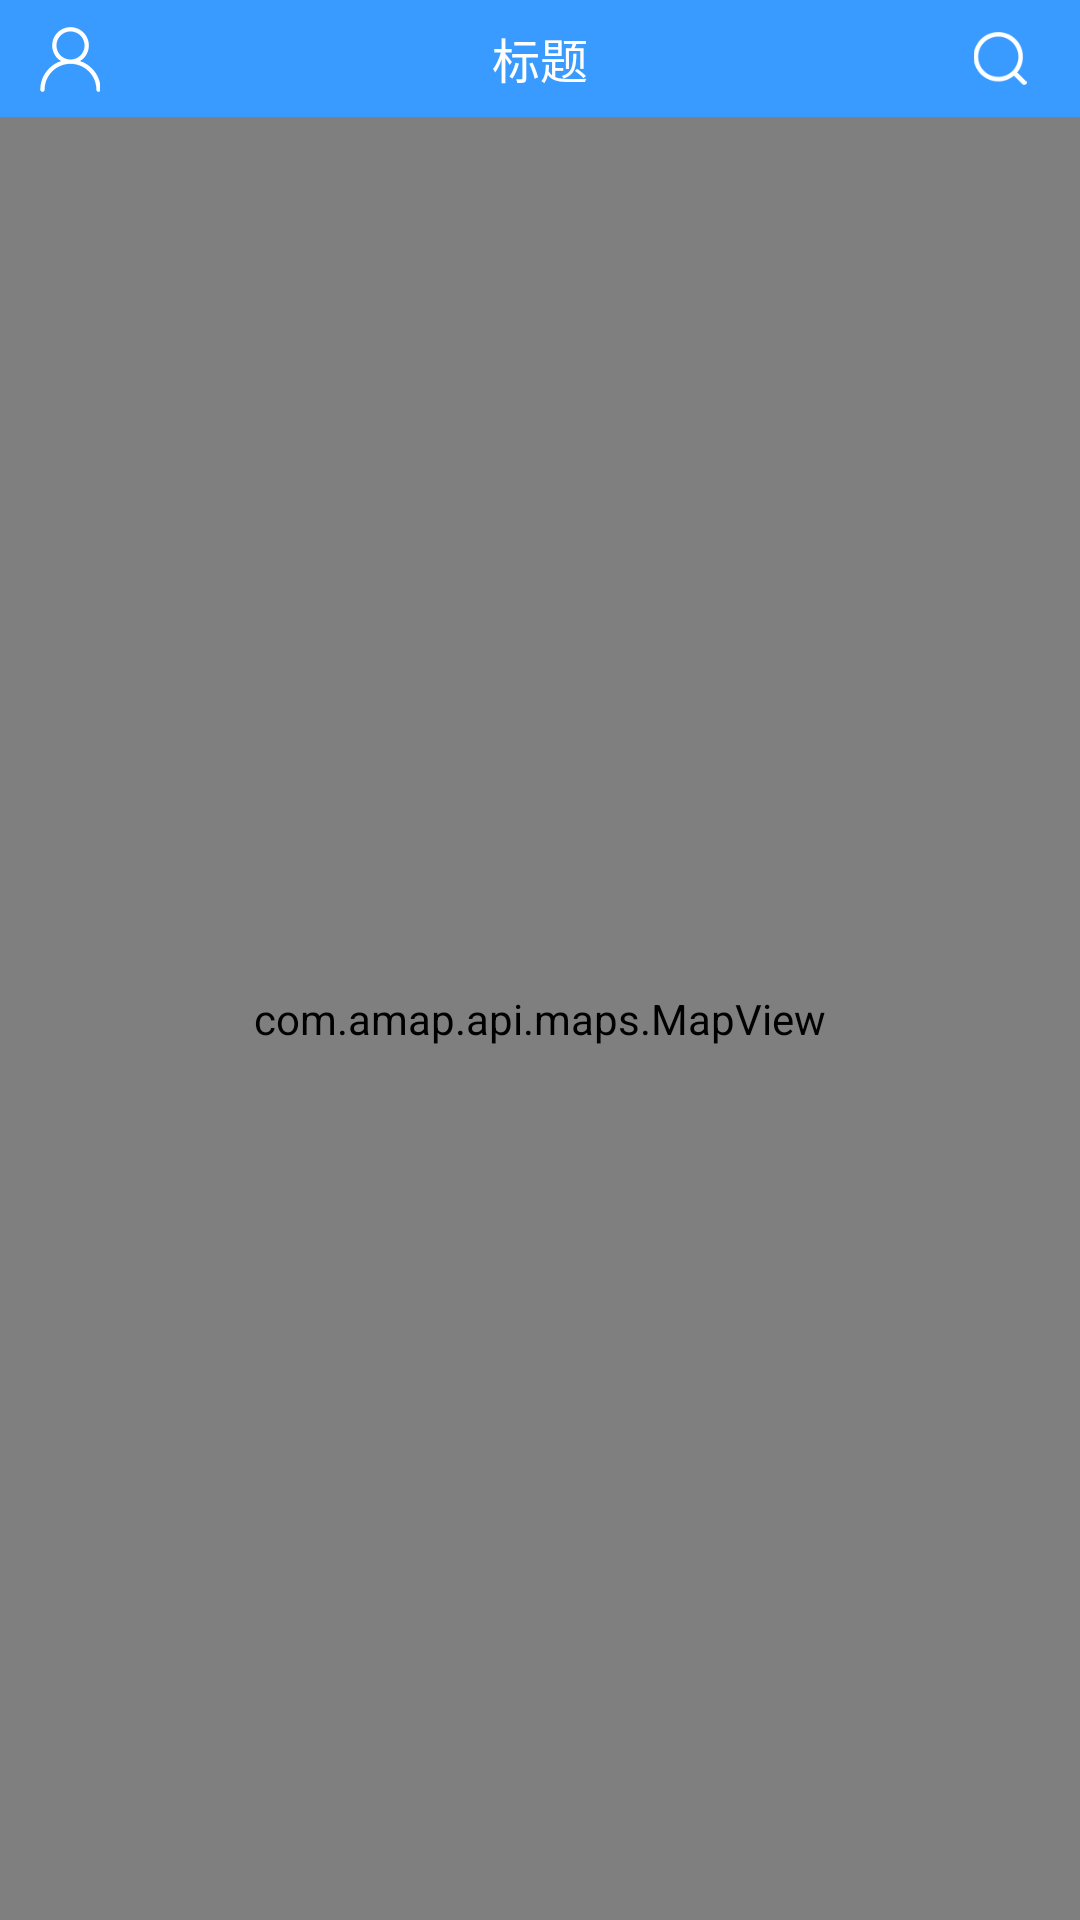

Named icons in this screenshot (1080 × 1920) and their centers, (x,y):
mine info: (70,59)
search: (1000,58)
